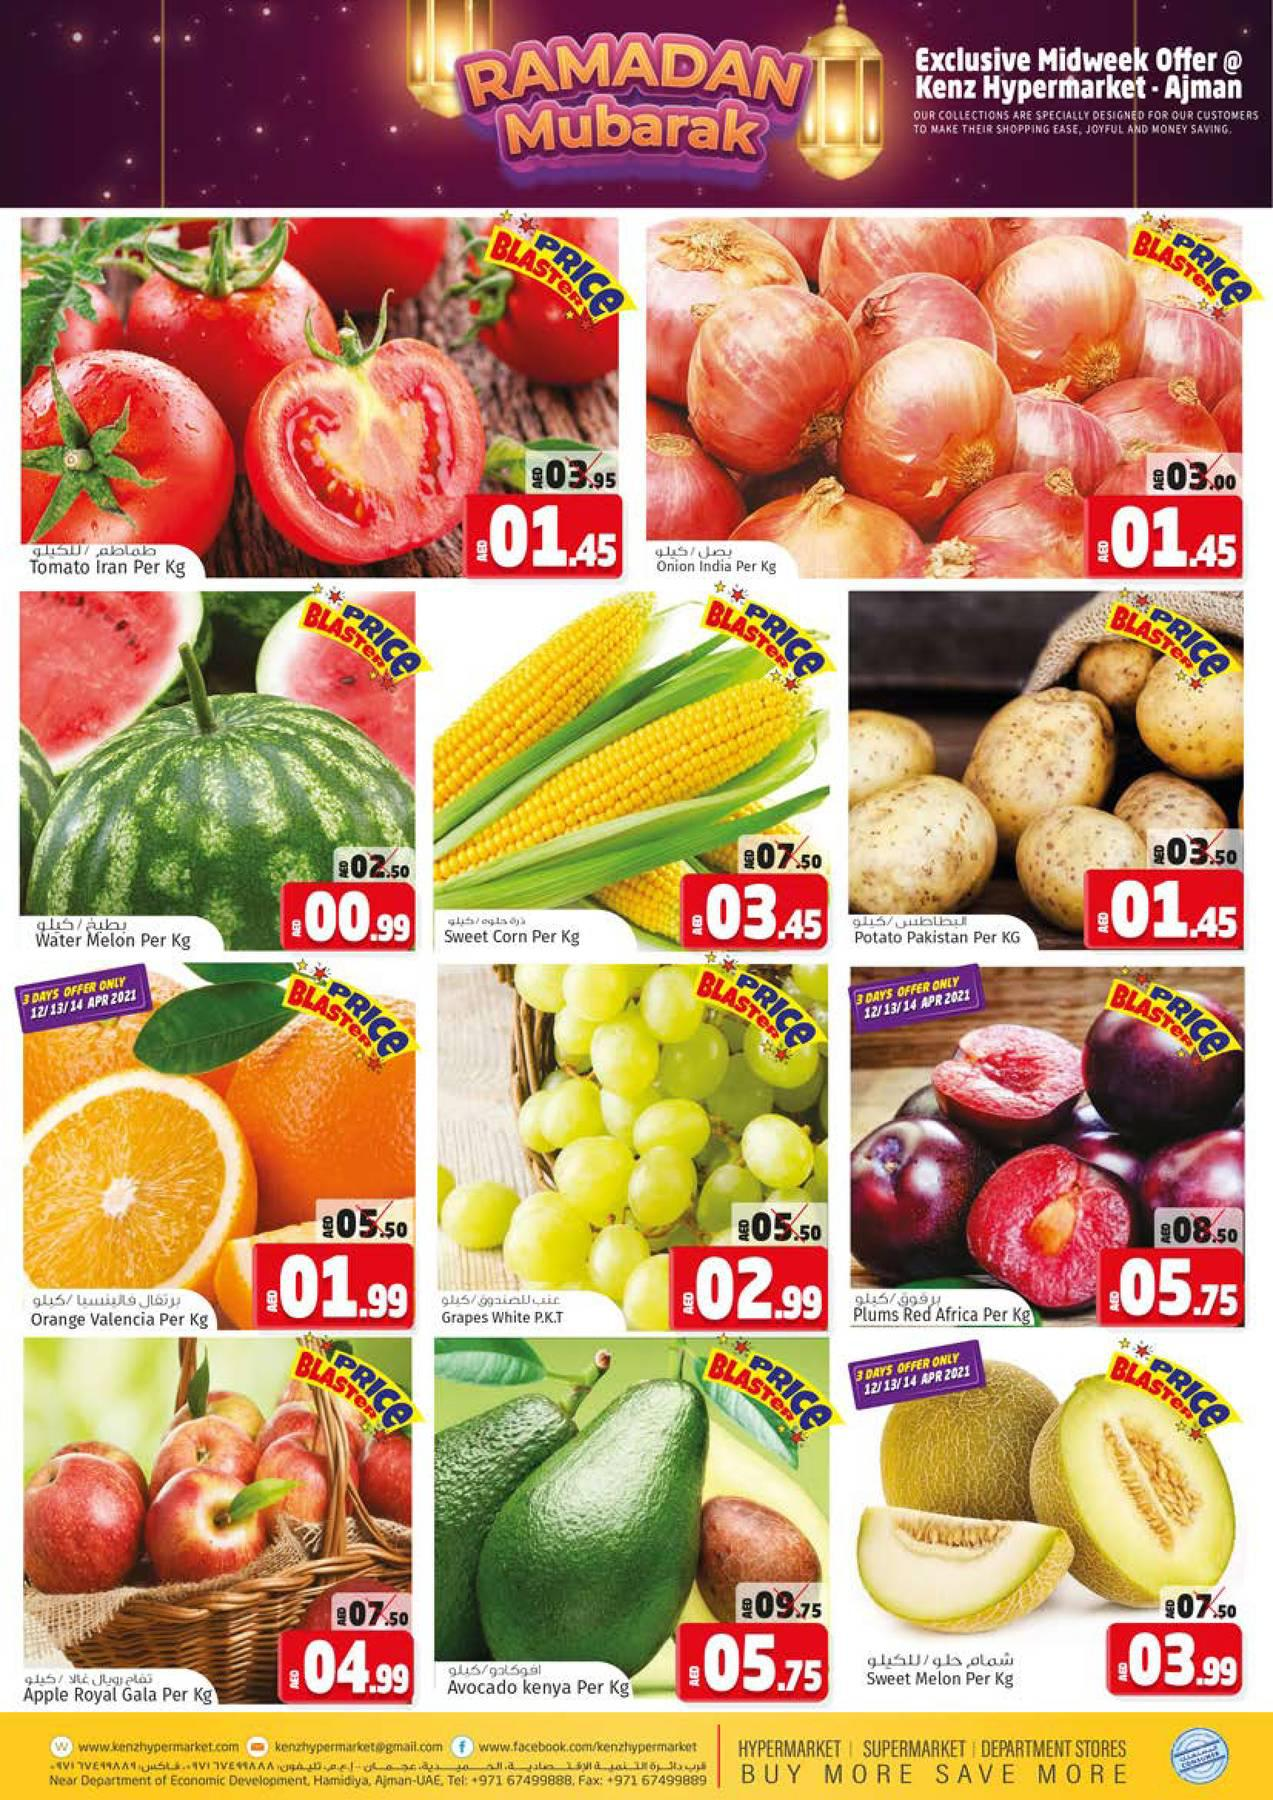text: (23, 1286, 223, 1337), (433, 1660, 643, 1706), (14, 1665, 229, 1710), (21, 534, 207, 585), (846, 910, 1037, 959), (431, 1289, 627, 1336), (22, 914, 207, 963), (849, 1284, 1040, 1329), (434, 905, 597, 956), (648, 537, 796, 584)
